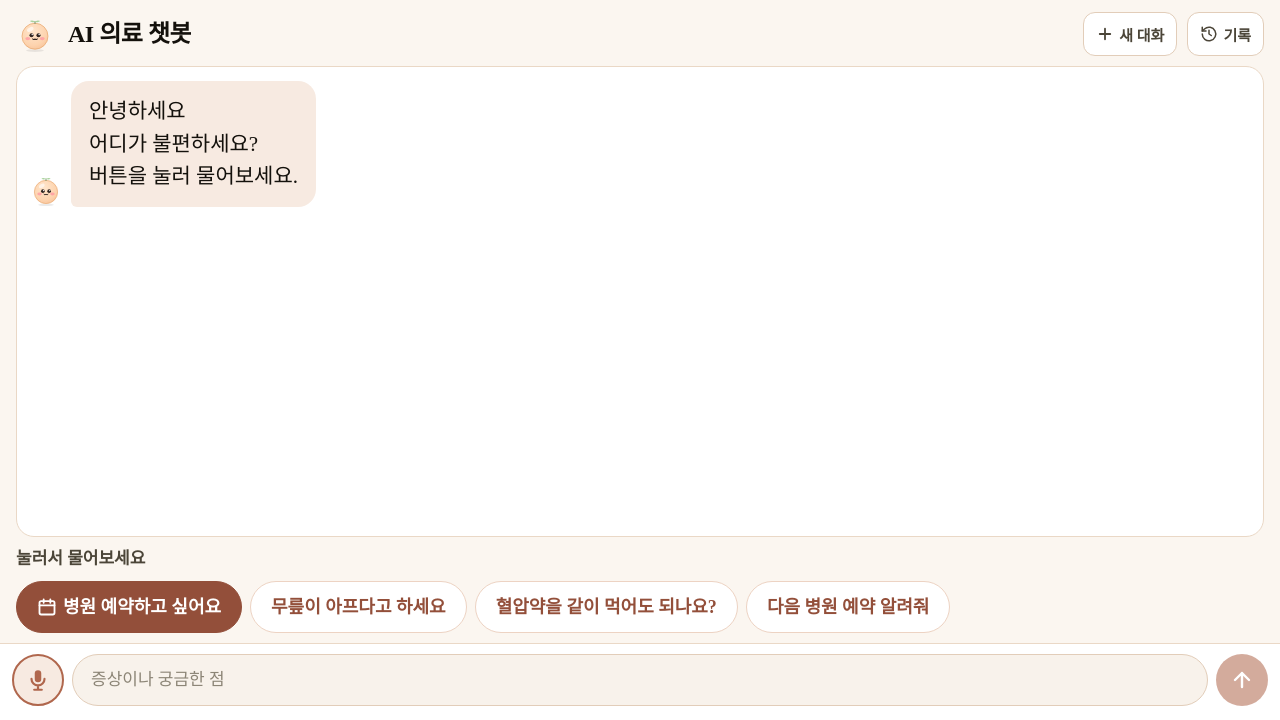
Test: 새 답 스크롤 - 실제 카드·예약 선택 (#299 점검 L-1·L-3) › 보호자 아이폰(393x852) - 병원 목록 카드가 붙은 긴 답이 와도 방금 한 질문이 맨 위에 보인다 (L-3)
This screenshot has width=1280, height=720.
Type "무릎이 계속 아파요" into the text box named "궁금한 점 입력" at (640, 680), box [72,654,1208,706]
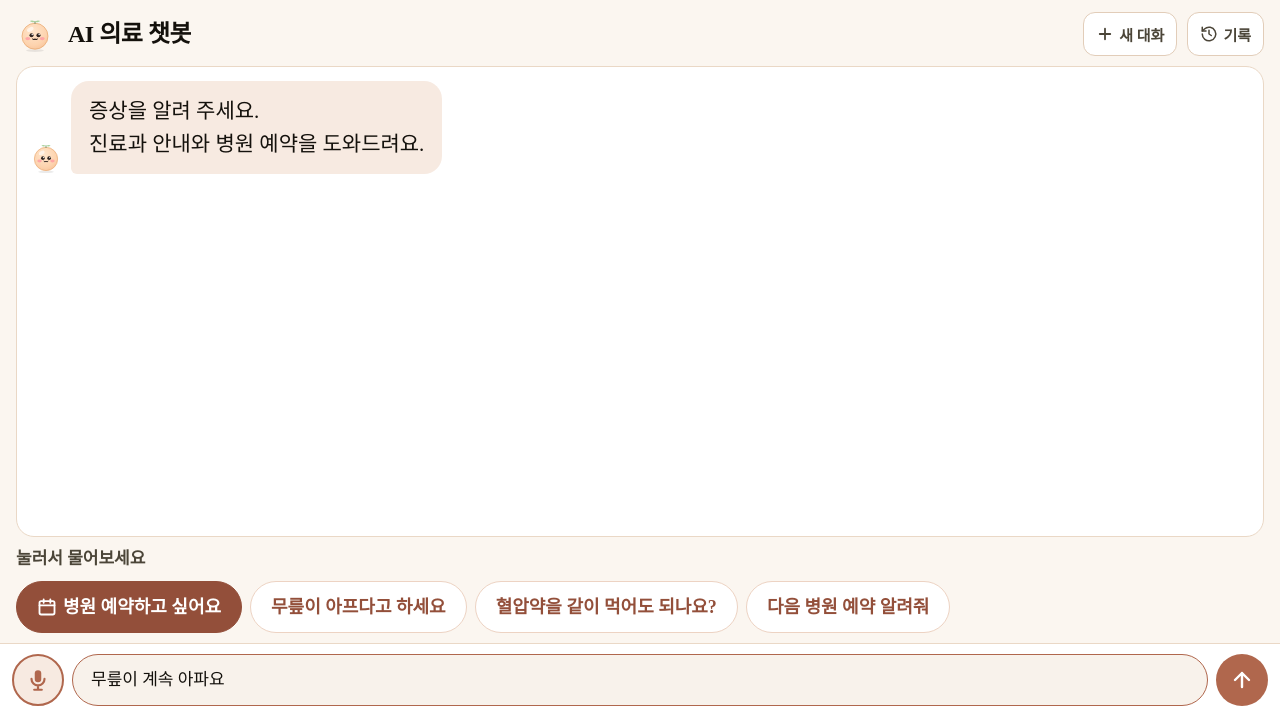
Click the button named "보내기" at (1242, 680), box [1216,654,1268,706]
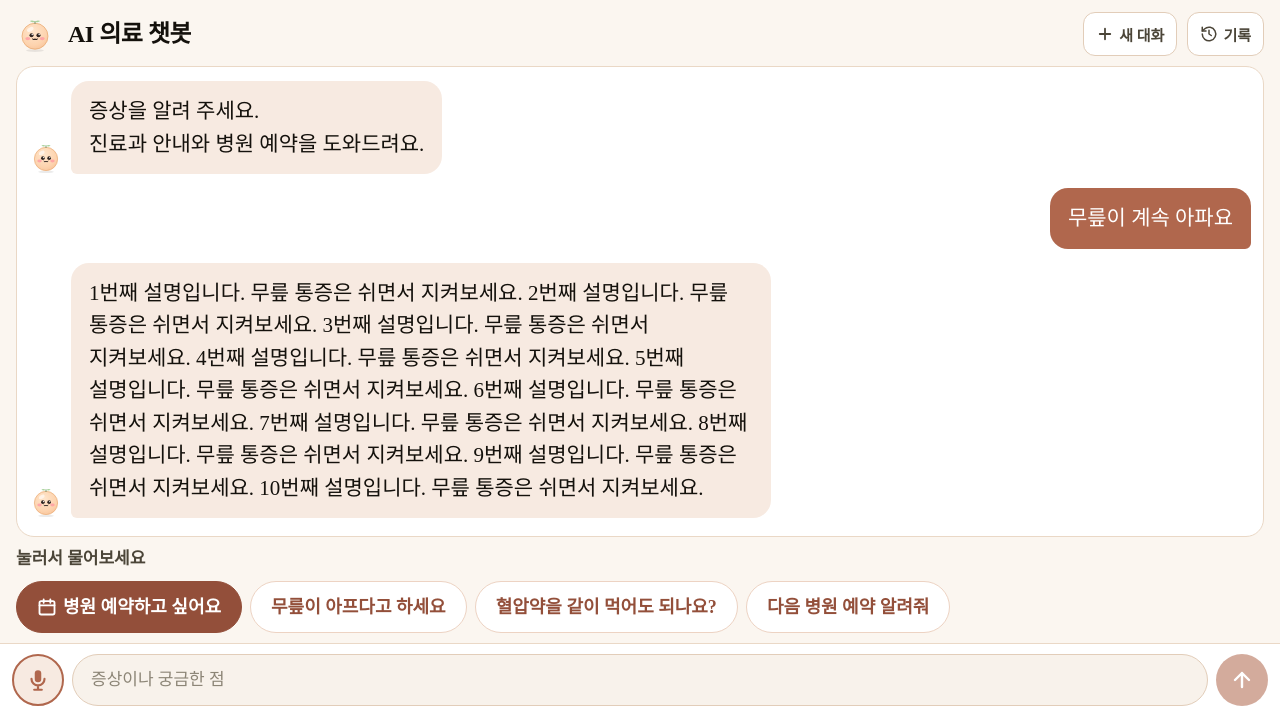
Check: the text "1번째 설명입니다" is shown, box [89,281,753,500]
Type "근처 정형외과 찾아줘" into the text box named "궁금한 점 입력" at (640, 680), box [72,654,1208,706]
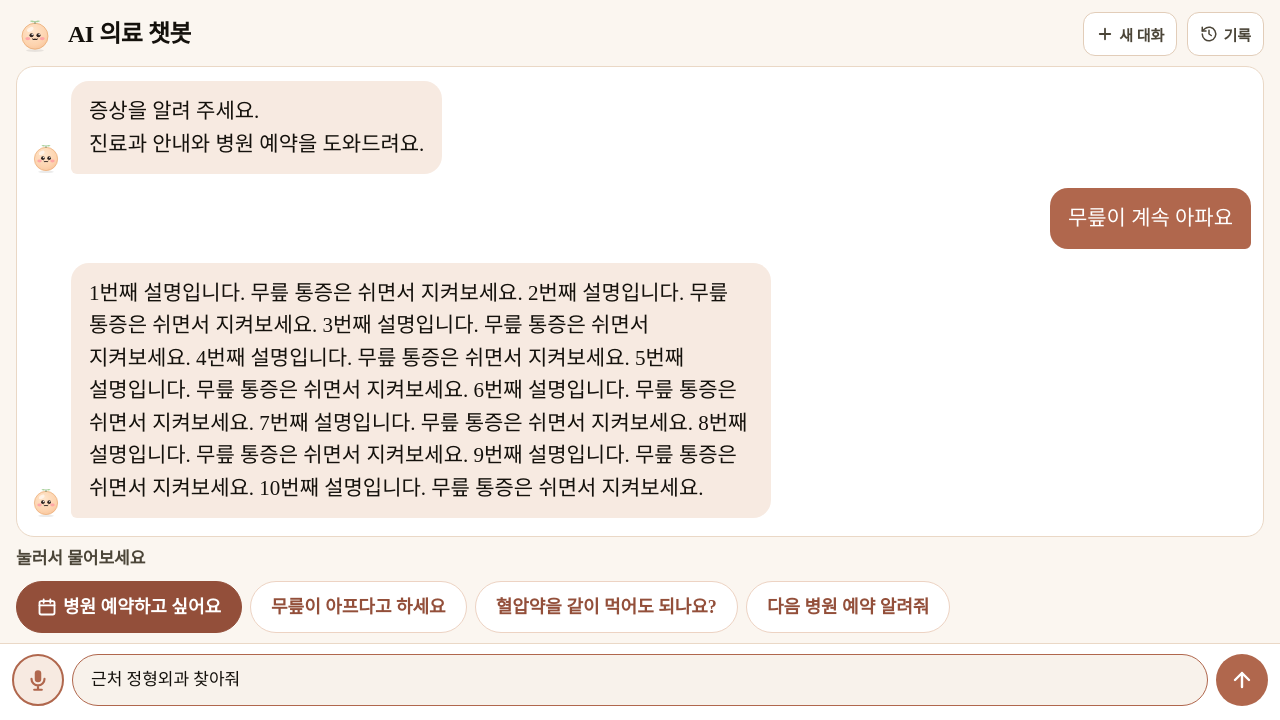
Click the button named "보내기" at (1242, 680), box [1216,654,1268,706]
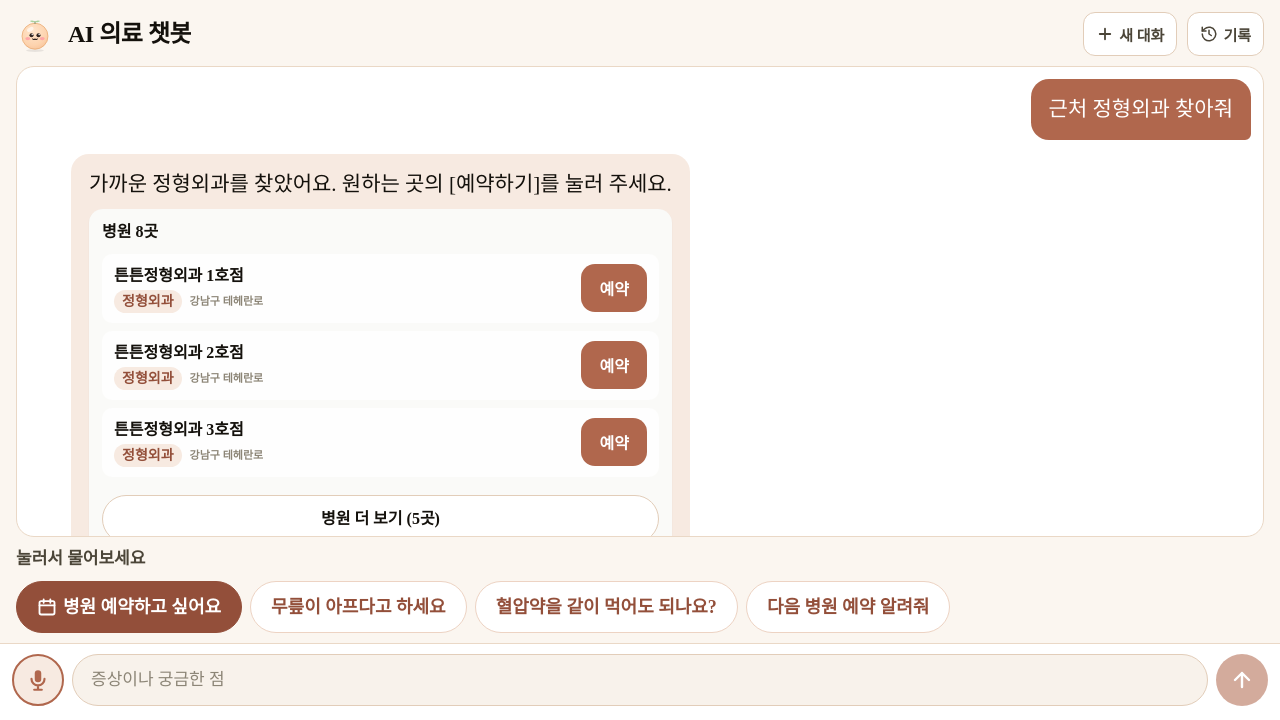
Check: the element showing "근처 정형외과 찾아줘" is shown, box [1031,80,1251,140]
